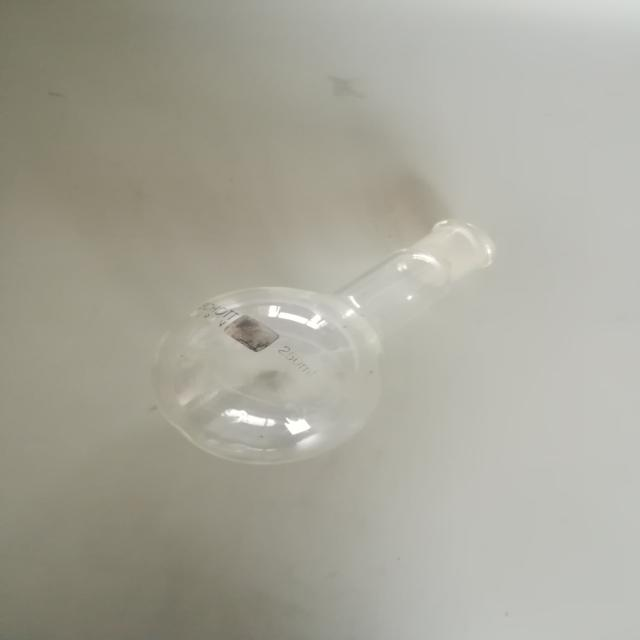Round_Bottom_Flask_Borosilicate_Glass_1_Neck: (129, 157, 536, 514)
